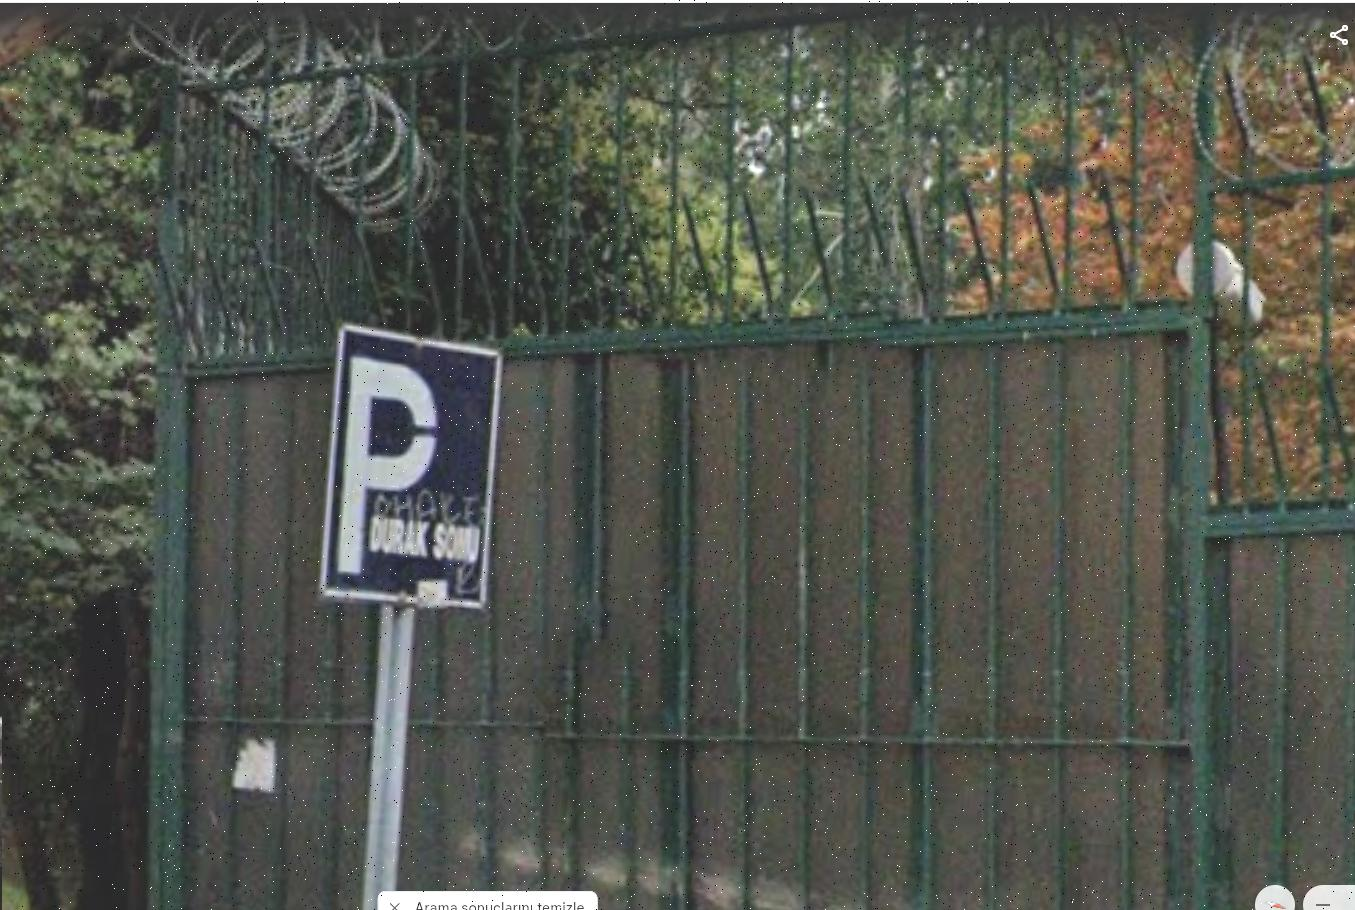park: (335, 329, 488, 595)
